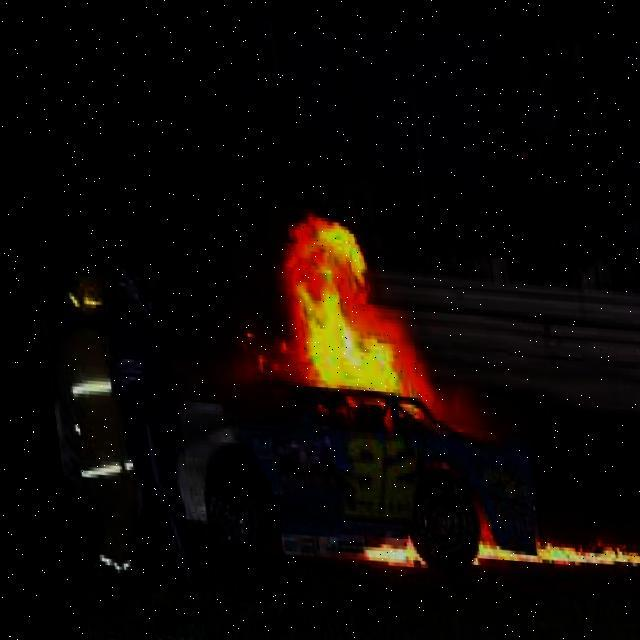Fire: (248, 198, 450, 430)
